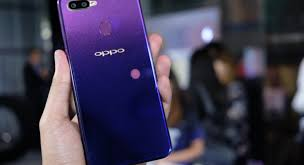oppo: (51, 1, 180, 165)
